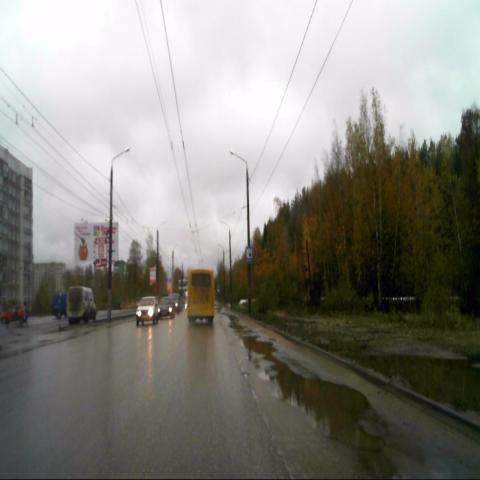7_3: (246, 246, 253, 263)
